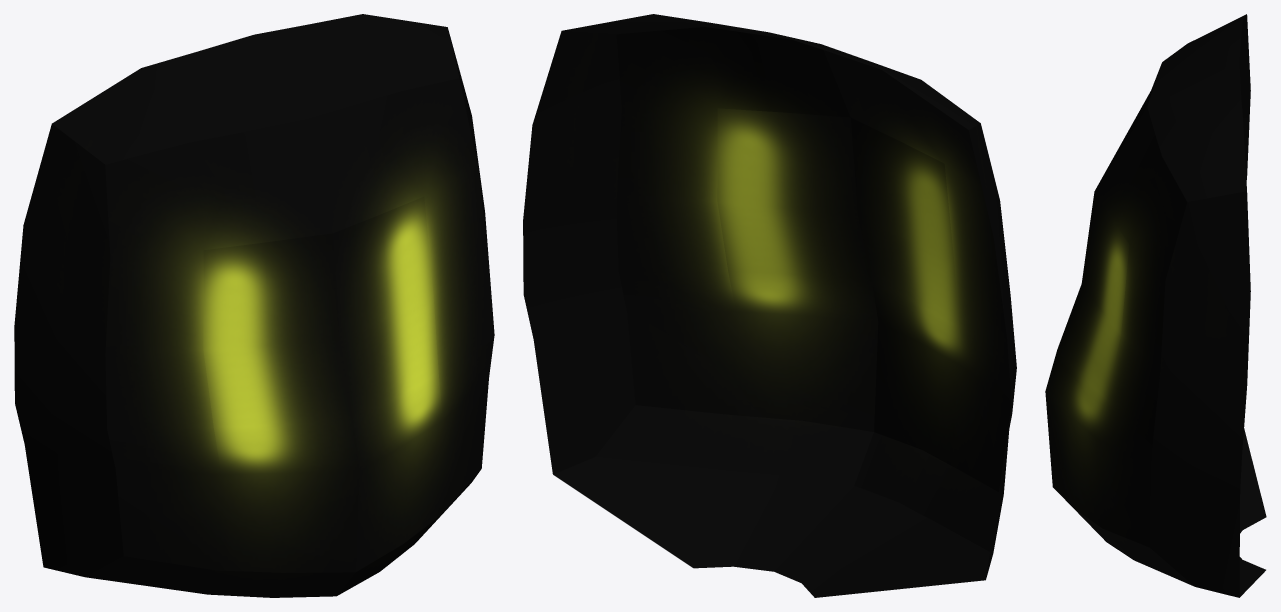
File: Mask.fbx
The picture shows the model from 3 angles, left to right: view 1: azimuth 30°, elevation 25°; view 2: azimuth 150°, elevation 25°; view 3: azimuth 270°, elevation 25°; orthographic projection. The views are drawn at different scales.
Visible parts, largest first — view 1: polySurface278; view 2: polySurface278; view 3: polySurface278.
Part boxes in pixels (left/top/right/bottom): polySurface278: left=14, top=14, right=494, bottom=597; polySurface278: left=523, top=14, right=1016, bottom=597; polySurface278: left=1045, top=14, right=1266, bottom=597.
Size of the model in its own units: 9.42 by 10 by 4.14.
